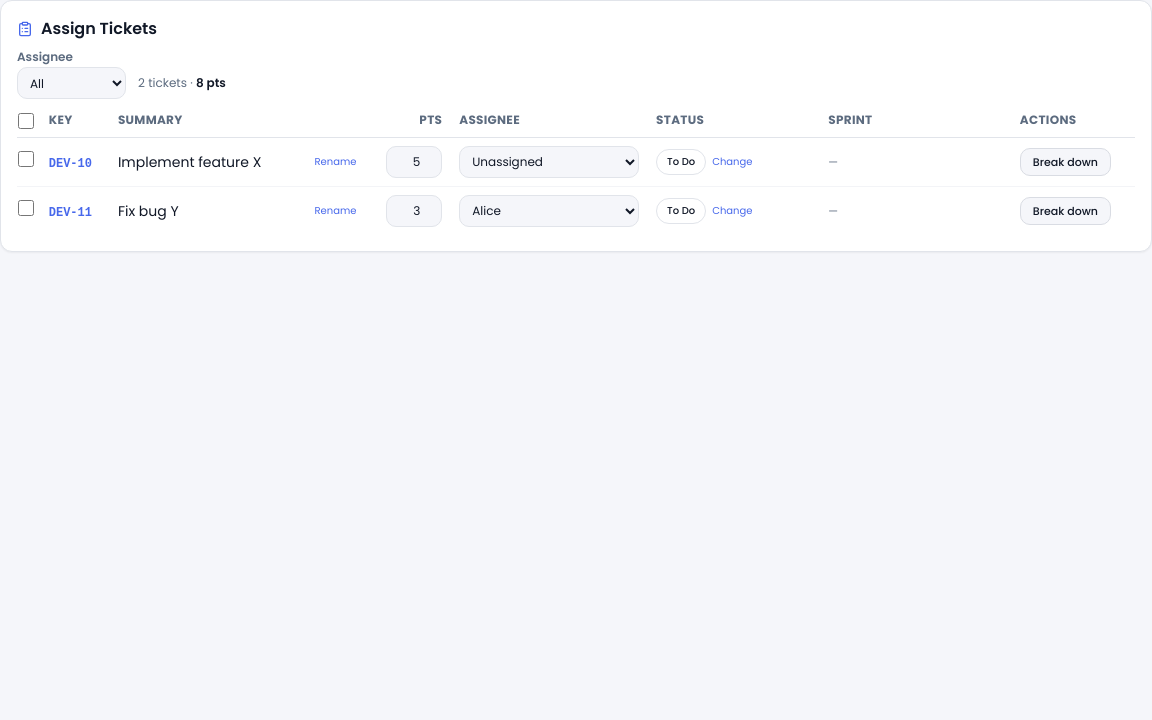
AssignmentList — v1.70 (ADR-081) enableBreakdown gating › clicking 'Break down' opens the BreakdownDialog for that ticket
Expected: the text "Implement feature X" is shown, [118,152,261,172]
Click the button with aria-label "Break down DEV-10". click: (1065, 162)
box: [1020,148,1111,176]
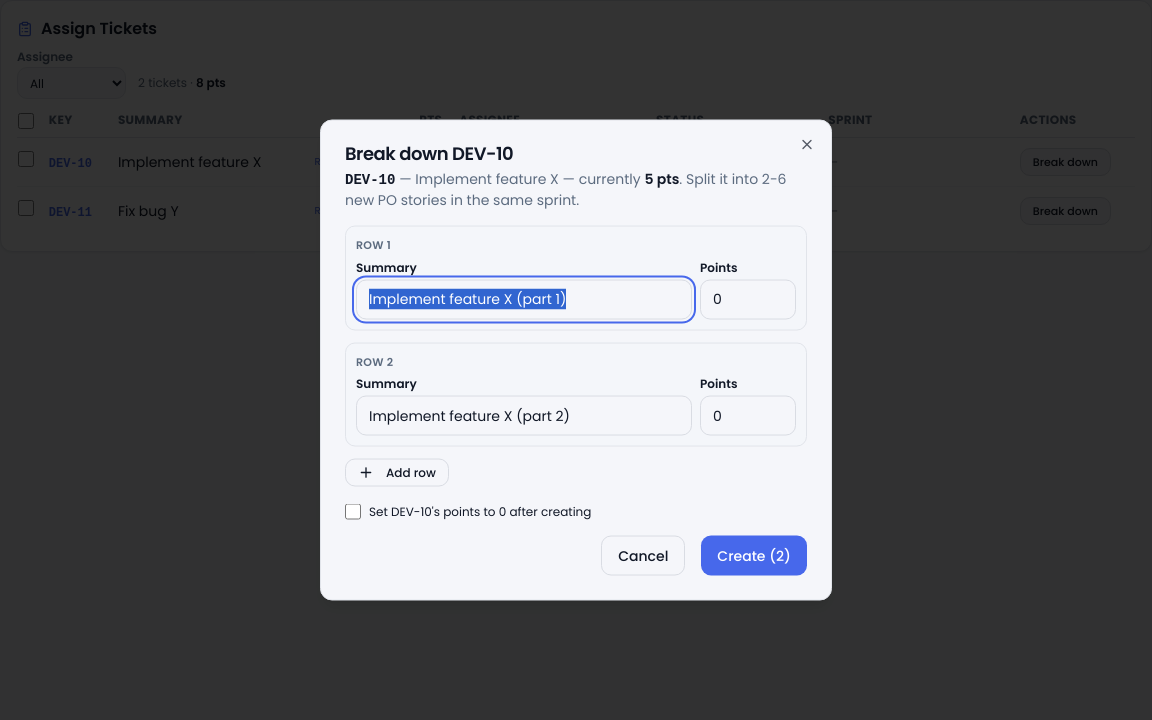
Now the heading "Break down DEV-10" is shown, box [345,140,513,166]
